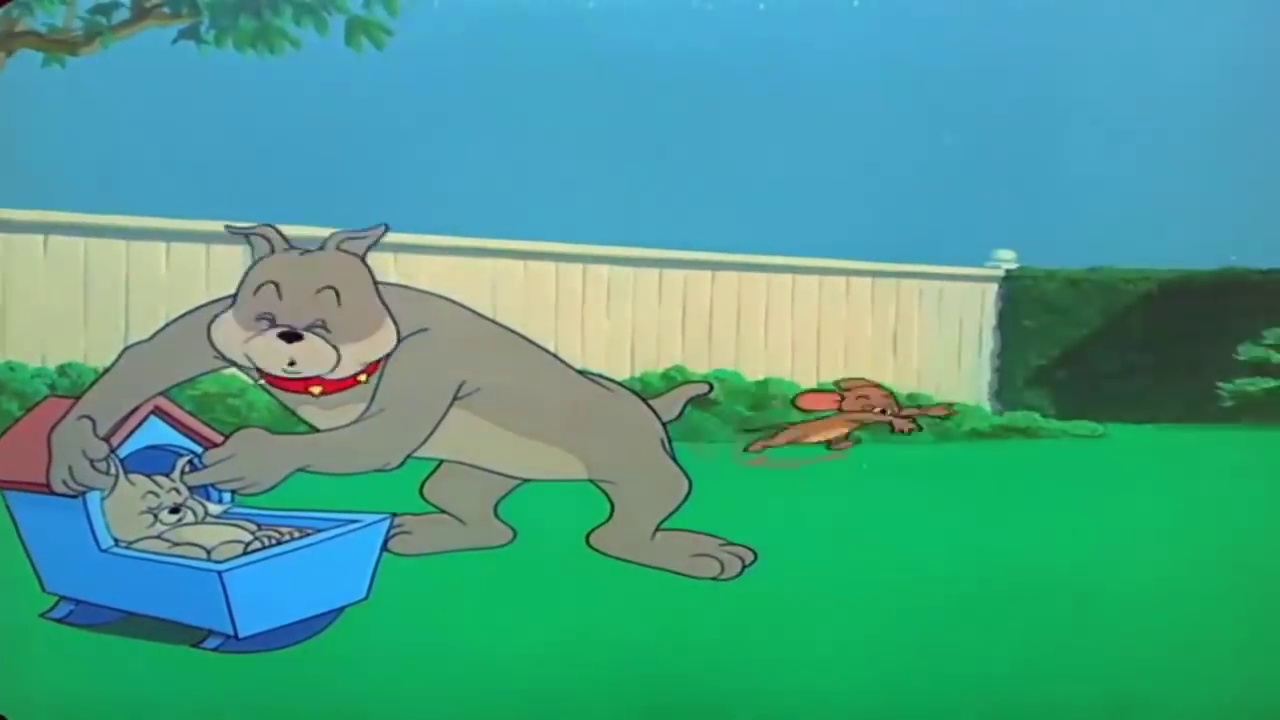spike: (206, 217, 407, 400)
